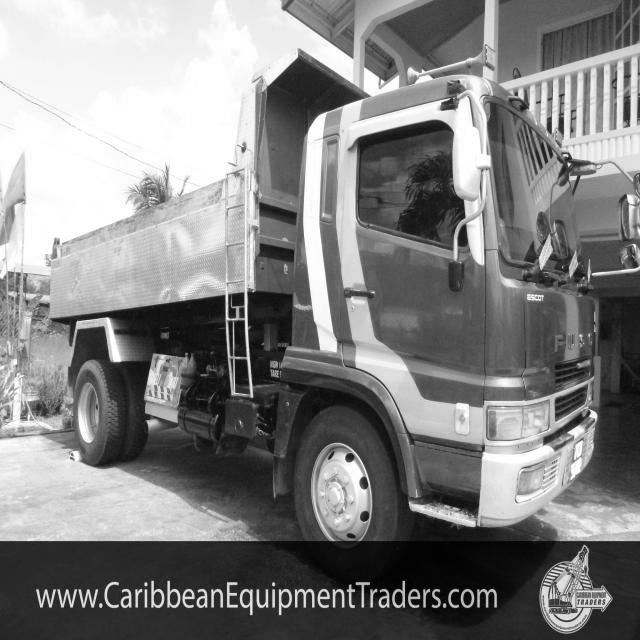truck: (264, 60, 639, 544)
